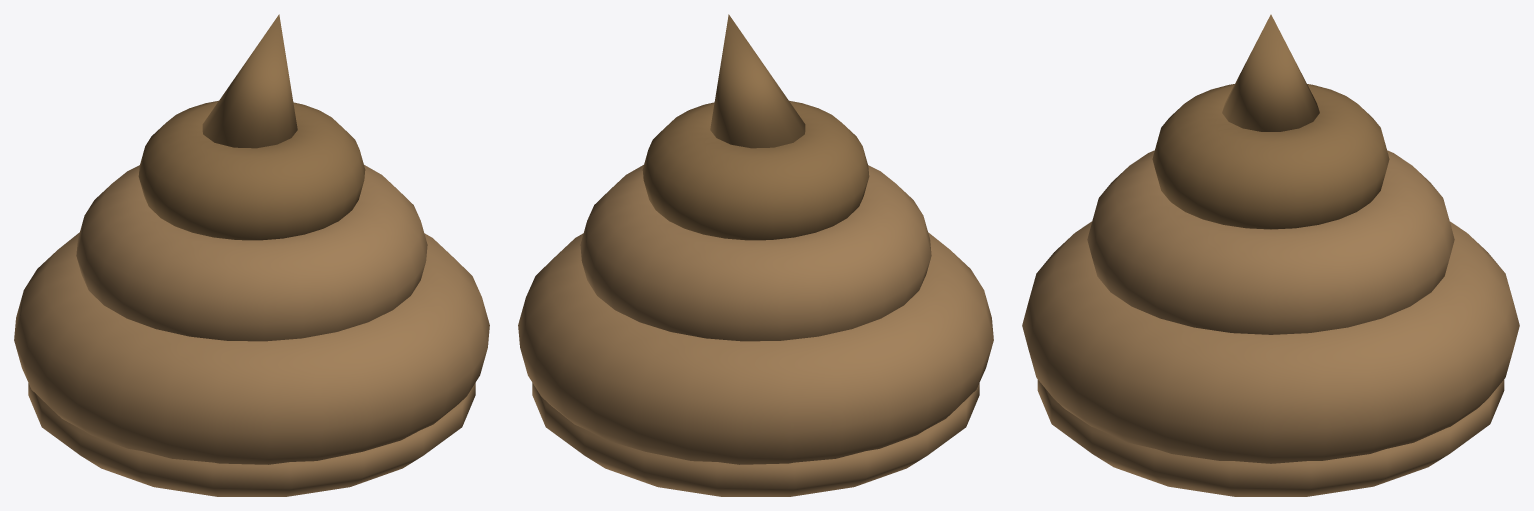
Rendered from kot_fest.glb.
3 renders of one model, left to right at view 1: azimuth 30°, elevation 25°; view 2: azimuth 150°, elevation 25°; view 3: azimuth 270°, elevation 25°, orthographic. The views are drawn at different scales.
Parts seen in each view (by area): view 1: KotFest; view 2: KotFest; view 3: KotFest.
Boxes of the visible parts, <box> form: KotFest: <box>14,14,489,496</box>; KotFest: <box>518,14,993,496</box>; KotFest: <box>1022,14,1519,496</box>.
Size of the model in its own units: 0.42 by 0.4131 by 0.42.
